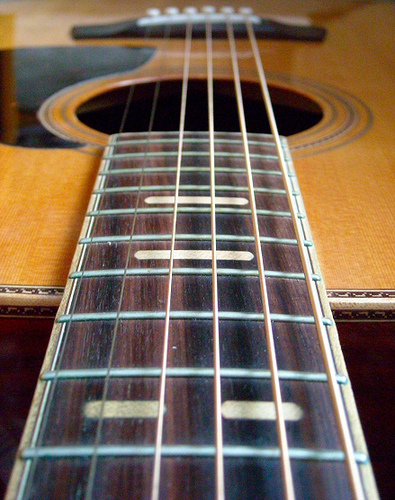guitar: (1, 1, 395, 500)
